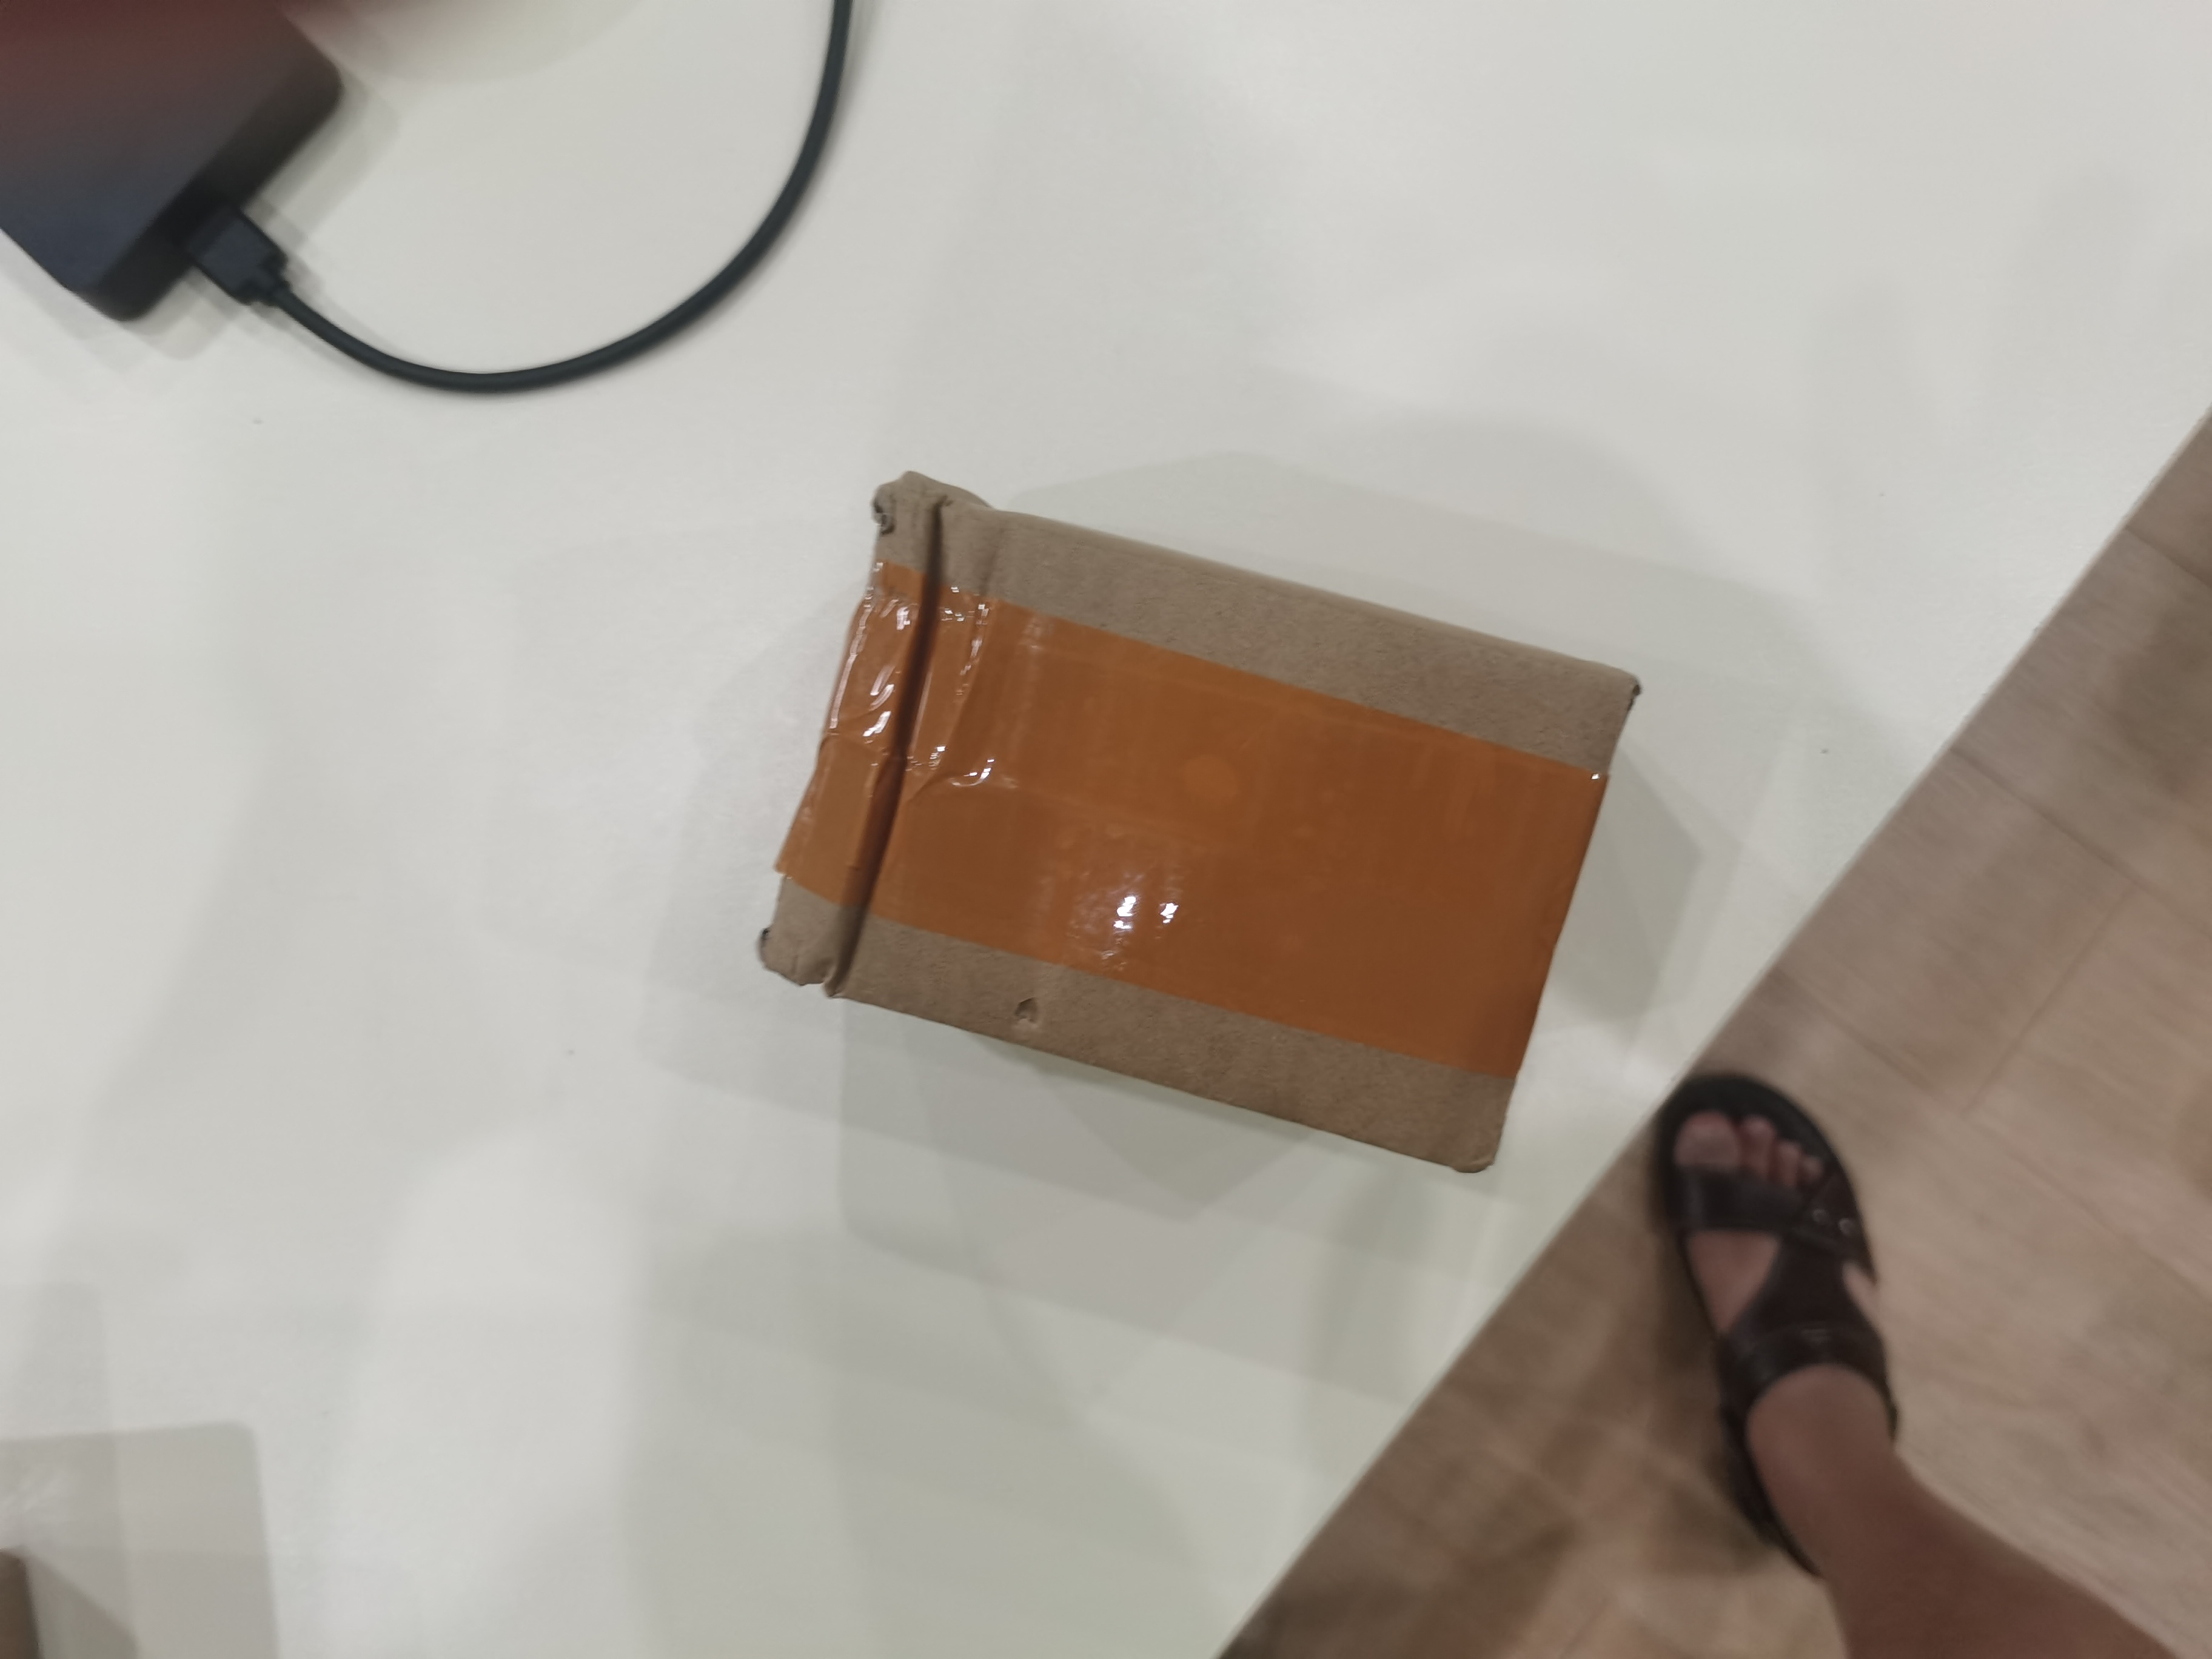box: (705, 455, 1683, 1269)
